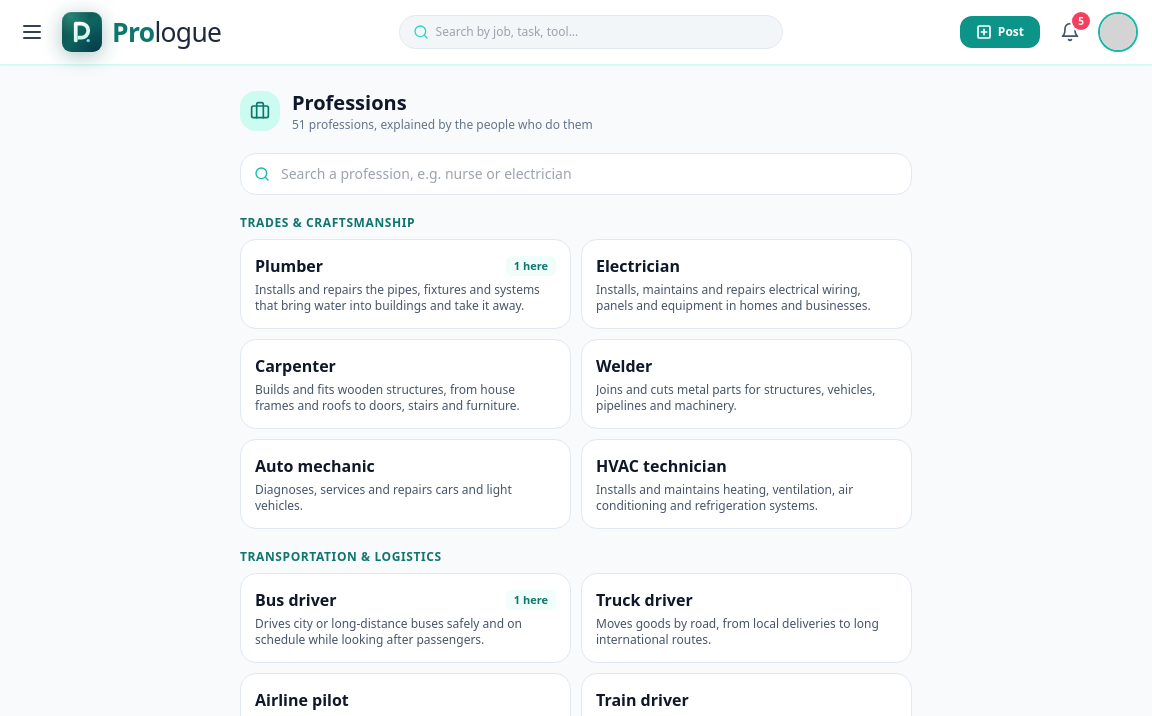
profession pages › list professions by field and open one with the people who do it
Earlier steps of the test are not shown.
Expected: the heading "Professions" is shown, left=292, top=89, right=407, bottom=116
Type "plumb" into the search field named "Search professions" at {"x": 576, "y": 174}, box left=240, top=153, right=912, bottom=195
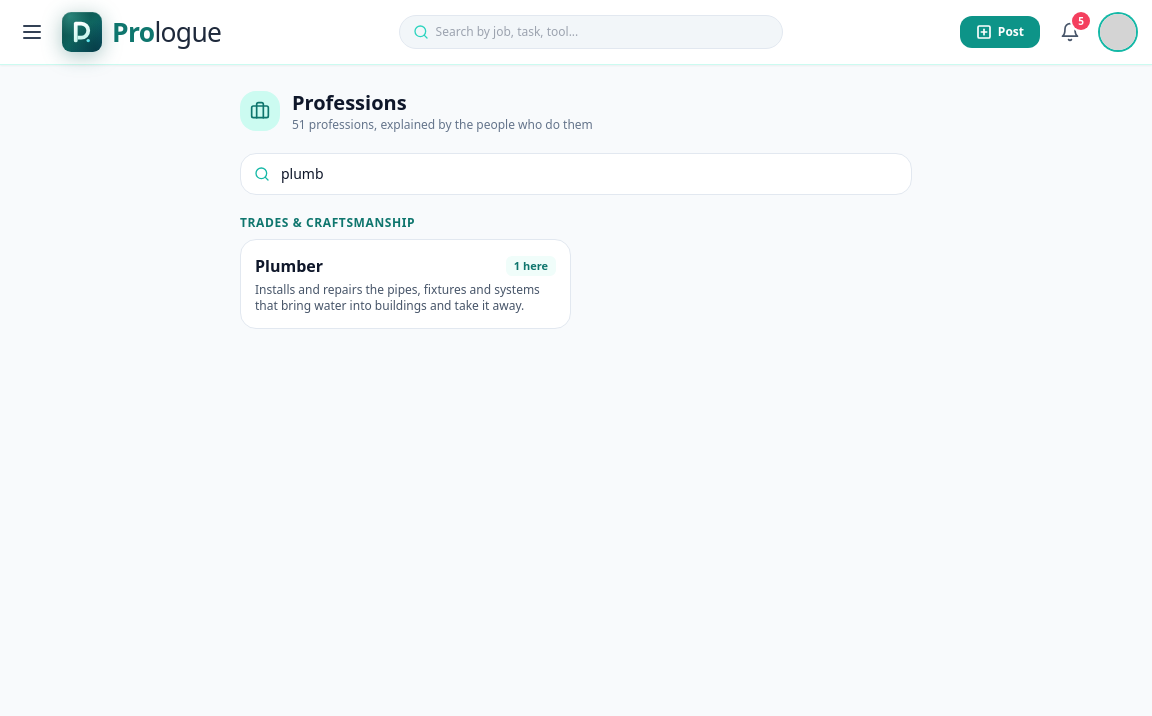
Click the link "Plumber" at {"x": 406, "y": 284}, box left=240, top=239, right=571, bottom=329
(page scrolled)
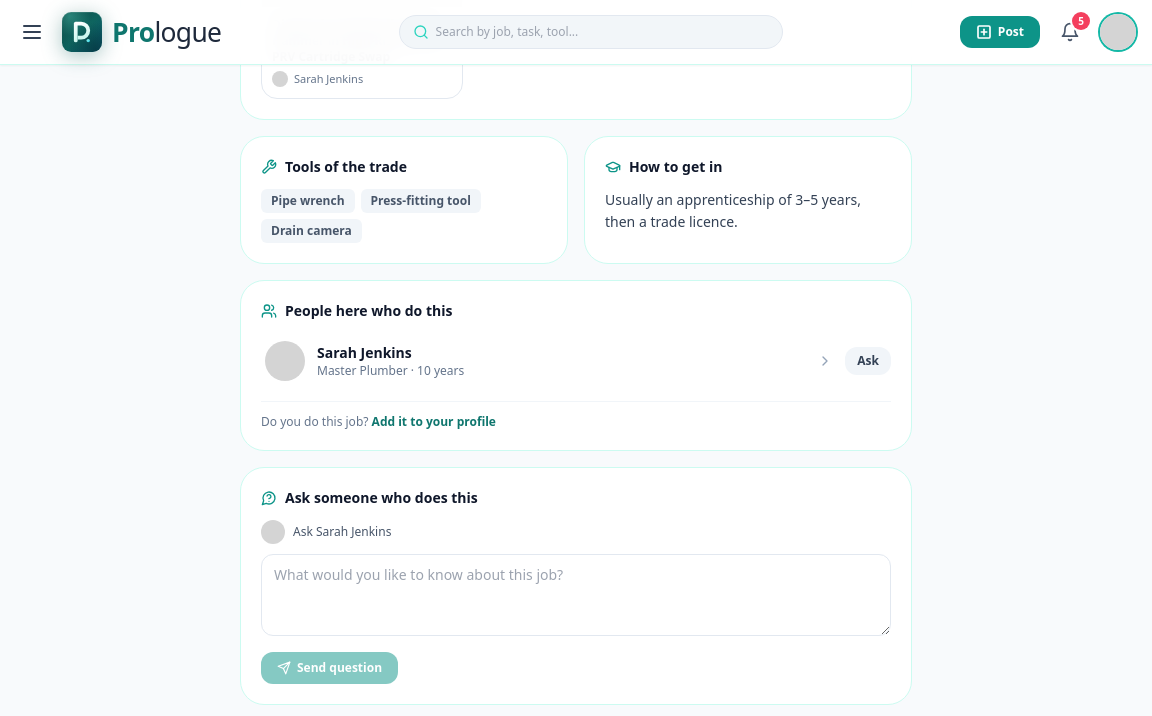
Now the list item "Pipe wrench" is shown, box left=261, top=188, right=354, bottom=212
Now the link "Sarah Jenkins Master Plumber · 10 years" is shown, box left=261, top=332, right=837, bottom=388
Click the button with aria-label "Ask Sarah Jenkins" at {"x": 868, "y": 360}, box left=845, top=346, right=891, bottom=374
(page scrolled)
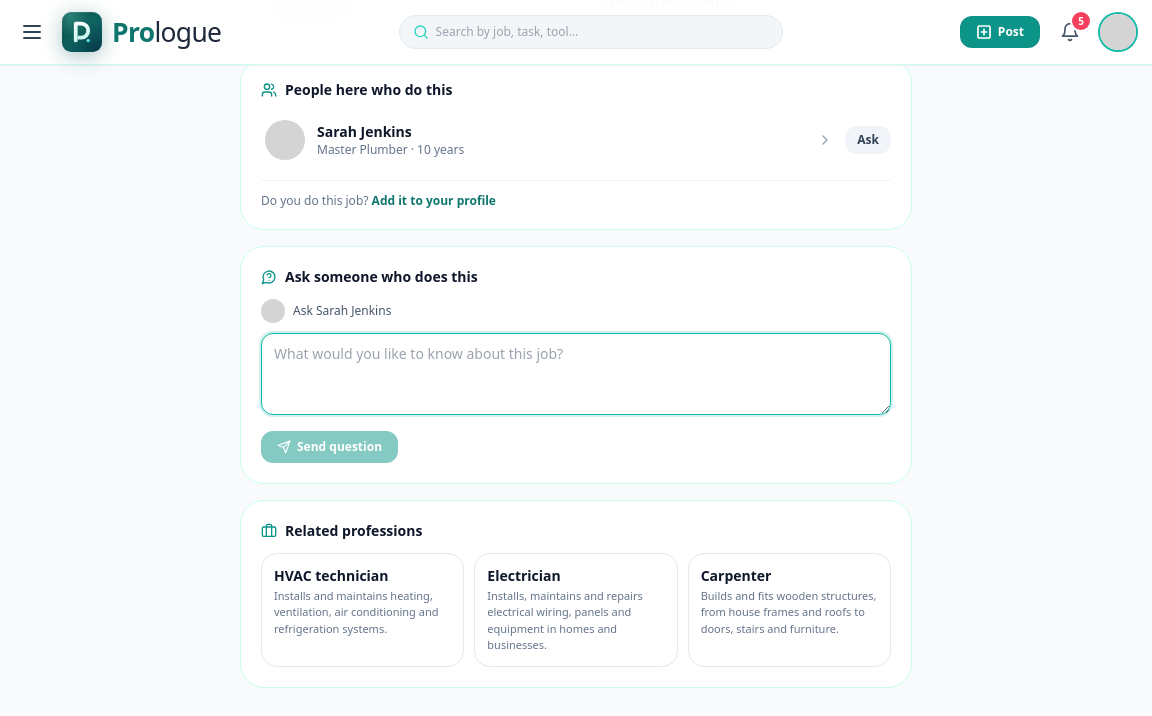
Type "How long did your apprenticeship take?" into the text box named "Your question" at {"x": 576, "y": 374}, box left=261, top=332, right=891, bottom=414
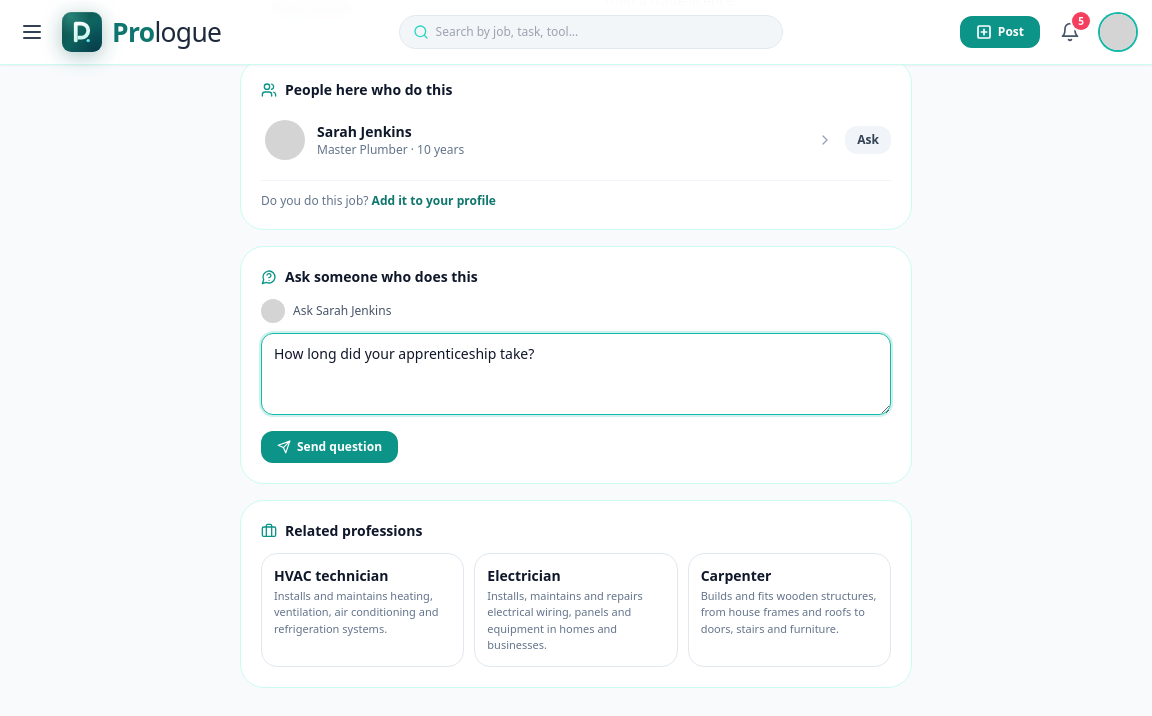
Click the button "Send question" at {"x": 330, "y": 446}, box left=261, top=430, right=398, bottom=462
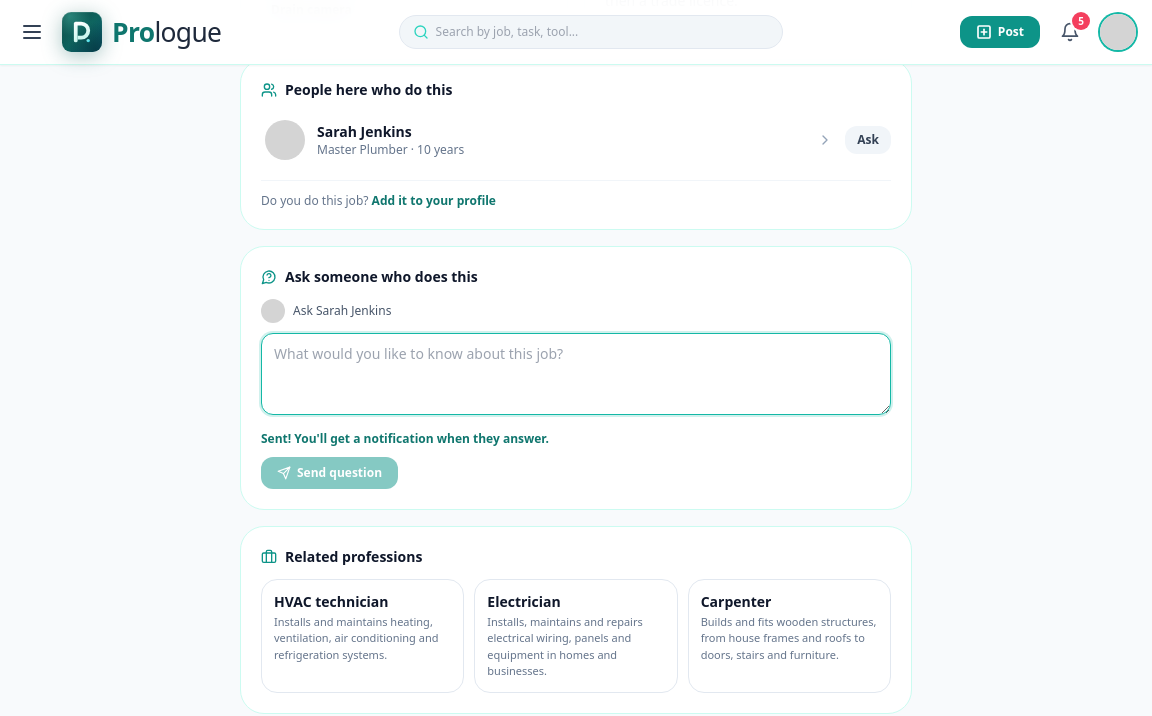
Now the message shows "notification when they answer", box left=261, top=430, right=549, bottom=446
Now the text box named "Your question" is empty, box left=261, top=332, right=891, bottom=414
Click the link "Electrician" at {"x": 576, "y": 636}, box left=474, top=578, right=678, bottom=692
(page scrolled)
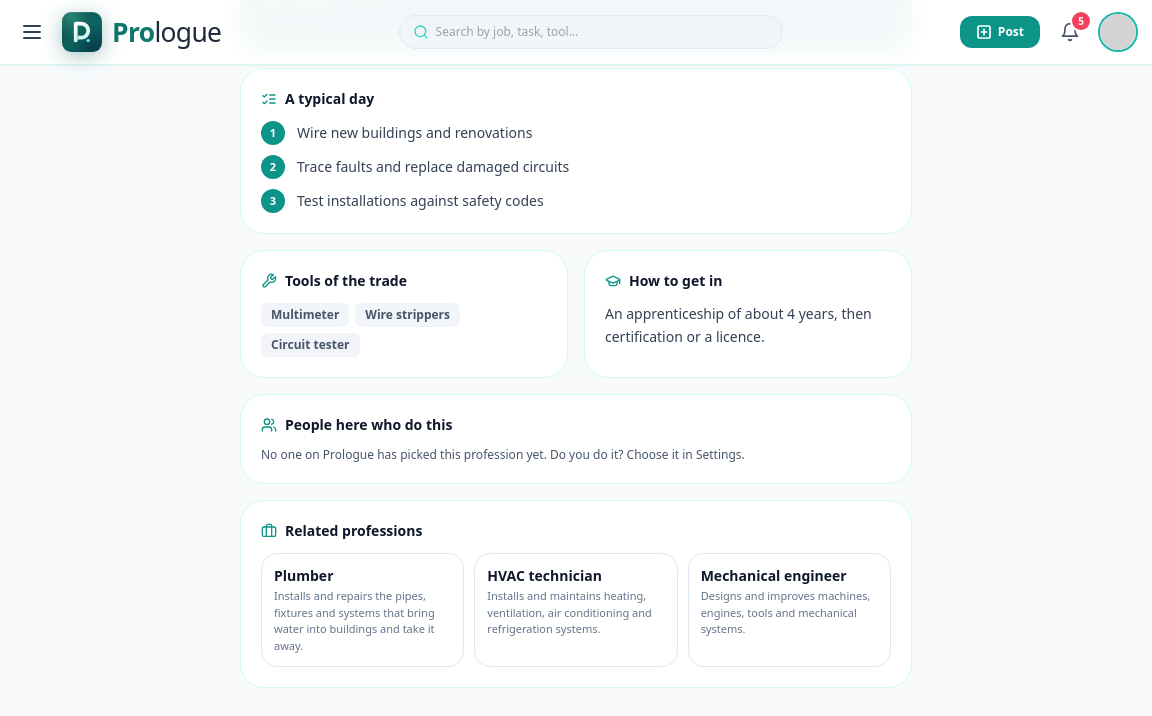
Now the text "No one on Prologue has picked this profession yet" is shown, box left=261, top=446, right=745, bottom=463
